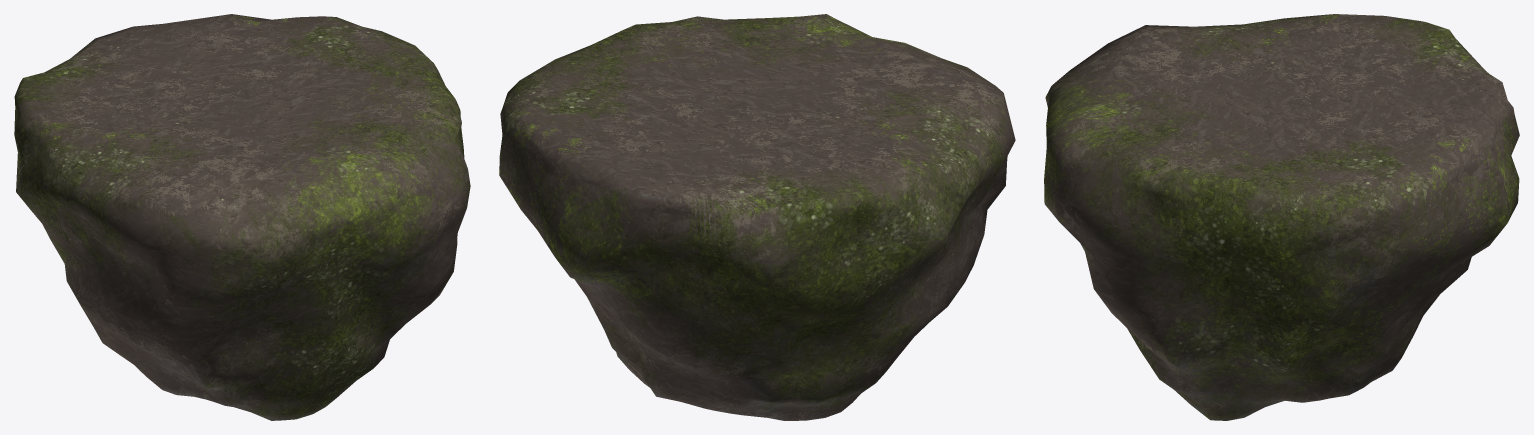
File: Land1.fbx
3 renders of one model, left to right at view 1: azimuth 30°, elevation 25°; view 2: azimuth 150°, elevation 25°; view 3: azimuth 270°, elevation 25°, orthographic. The views are drawn at different scales.
Visible parts, largest first — view 1: Land1; view 2: Land1; view 3: Land1.
Part boxes in pixels (box(x1,y1,x2,y2)): Land1: box(14, 14, 470, 420); Land1: box(499, 14, 1015, 420); Land1: box(1044, 14, 1519, 420).
Size of the model in its own units: 6094 by 4237 by 5986.
1 material, 1 textured.
